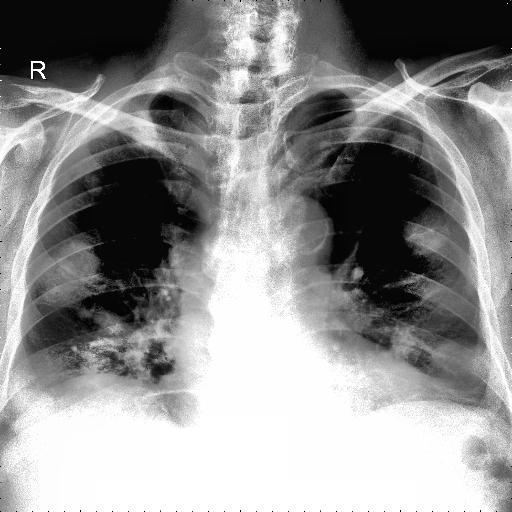0- Aortic enlargement: (264, 192, 334, 284), (248, 196, 334, 266), (258, 193, 338, 259)
10- Pleural effusion: (435, 260, 489, 422), (6, 304, 51, 444)
11- Pleural thickening: (68, 92, 124, 142), (362, 84, 426, 122)
13- Pulmonary fibrosis: (401, 207, 448, 254)
3- Cardiomegaly: (168, 329, 454, 400)
7- Lung Opacity: (32, 237, 100, 309), (83, 315, 150, 379), (424, 340, 502, 388), (91, 312, 145, 378), (401, 207, 448, 254), (384, 120, 422, 166), (130, 106, 162, 153), (83, 174, 100, 196)
8- Nodule-Mass: (32, 237, 100, 309), (36, 238, 102, 306), (83, 315, 150, 379), (424, 340, 502, 388), (428, 336, 490, 394), (91, 312, 145, 378), (396, 206, 453, 256), (124, 324, 174, 379), (402, 205, 446, 255), (58, 244, 101, 288), (384, 120, 422, 166), (130, 106, 162, 153), (128, 108, 160, 154), (44, 258, 78, 300), (387, 128, 421, 166), (434, 342, 469, 378), (388, 322, 420, 360), (388, 130, 421, 161), (390, 324, 414, 356), (80, 170, 104, 196), (82, 170, 102, 196), (83, 174, 100, 196), (26, 328, 40, 344)
